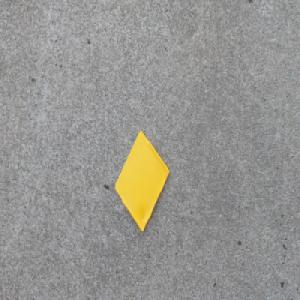PlasticPart: (114, 129, 170, 234)
